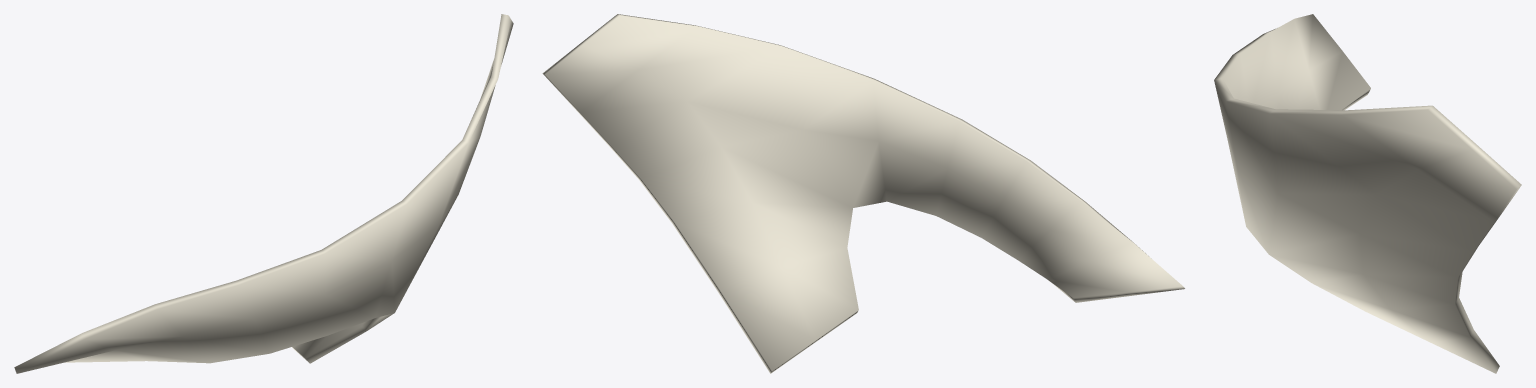
3 views of the same model, side by side, from view 1: azimuth 30°, elevation 25°; view 2: azimuth 150°, elevation 25°; view 3: azimuth 270°, elevation 25° (orthographic). The views are drawn at different scales.
Visible parts, largest first — view 1: ZA_14e9f4107a447e91; view 2: ZA_14e9f4107a447e91; view 3: ZA_14e9f4107a447e91.
Boxes of the visible parts, <box> form: ZA_14e9f4107a447e91: <box>14,14,513,373</box>; ZA_14e9f4107a447e91: <box>542,14,1184,373</box>; ZA_14e9f4107a447e91: <box>1214,14,1521,373</box>.
Bounding box in the file's own units: 0.0465 × 0.0236 × 0.0175.
